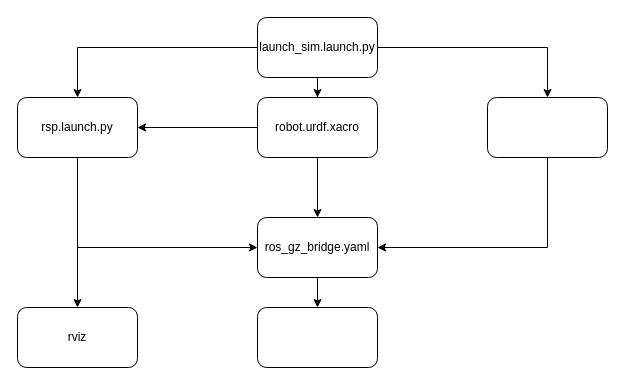
The diagram is 625 pixels wide and 385 high, and some of its shapes have lost their labels. The shapes that lost their labels are listed below. From the top down, each one's box as (x1, y1, x2, y2) in pixels, then its label:
(486, 96, 608, 158): teleop_twist_keyboard
(256, 306, 378, 368): gazebo
